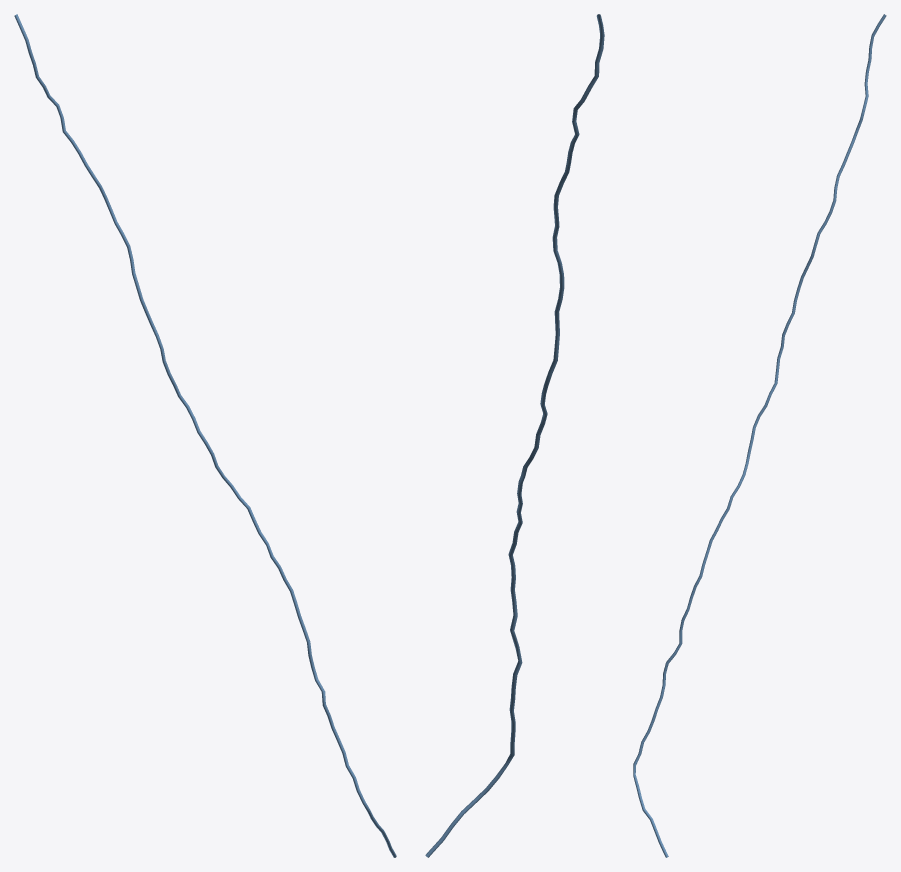
Rendered from sweep269.fbx.
3 renders of one model, left to right at view 1: azimuth 30°, elevation 25°; view 2: azimuth 150°, elevation 25°; view 3: azimuth 270°, elevation 25°, orthographic. The views are drawn at different scales.
Visible parts, largest first — view 1: sweep269; view 2: sweep269; view 3: sweep269.
Part boxes in pixels (<box>): sweep269: <box>14,14,396,857</box>; sweep269: <box>425,14,604,857</box>; sweep269: <box>633,14,886,857</box>.
Bounding box in the file's own units: 1.68 × 5.05 × 1.58.
